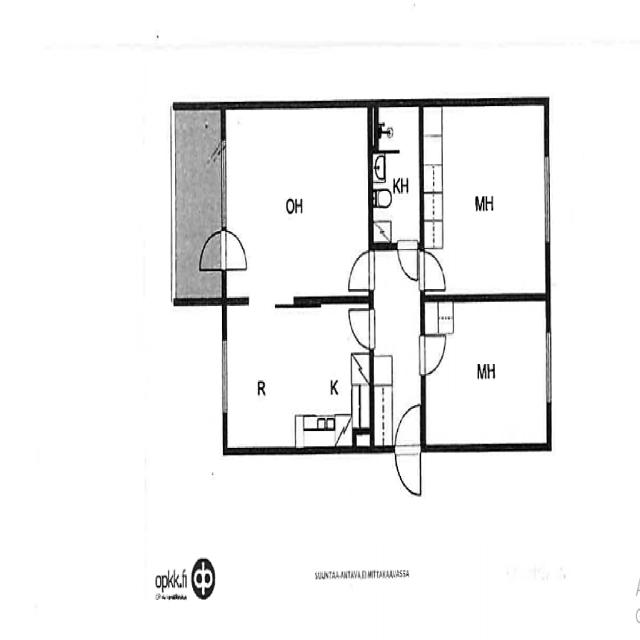door: (392, 399, 423, 499), (192, 228, 254, 275), (418, 329, 448, 376), (346, 302, 376, 349), (346, 248, 376, 294), (418, 248, 447, 292), (396, 237, 421, 286)
window: (540, 147, 554, 251), (218, 336, 232, 420), (218, 134, 230, 227), (542, 324, 554, 410)
zone: (222, 104, 373, 302), (421, 101, 549, 299), (225, 303, 369, 453), (422, 295, 550, 450), (371, 103, 422, 246)
